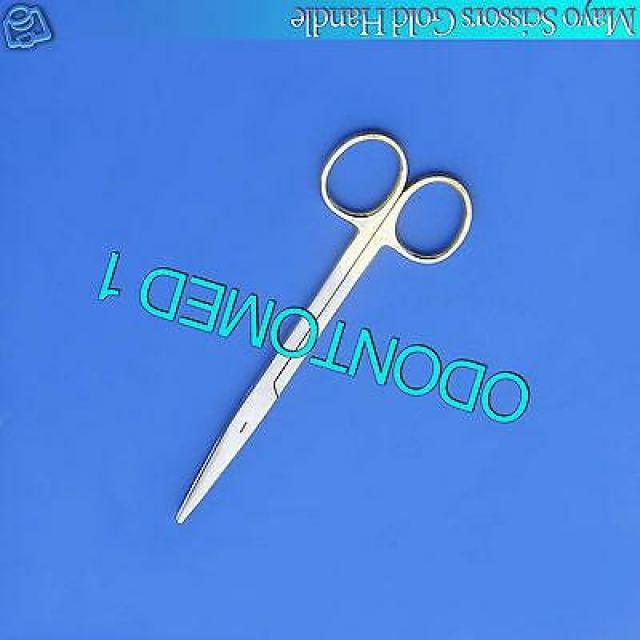Mayo_metz: (170, 116, 476, 530)
